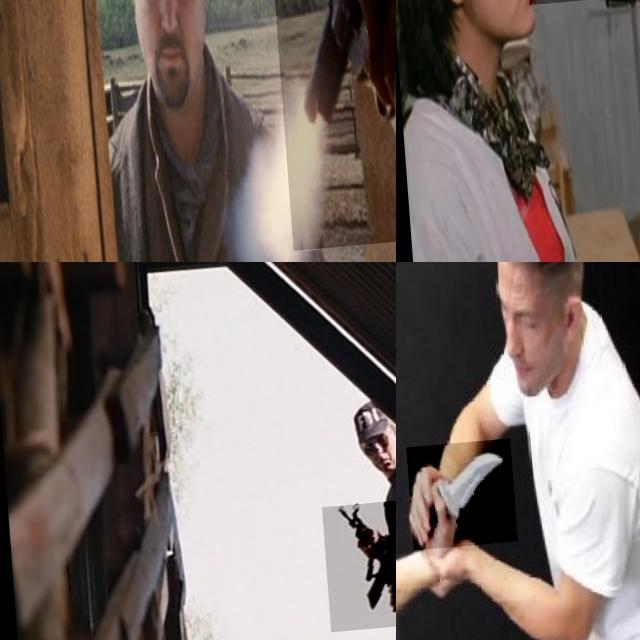-: (401, 448, 511, 558)
gun-knife-thesis - v11 Yolov5 augmented: (265, 0, 396, 256), (316, 506, 396, 638), (517, 0, 634, 71)
